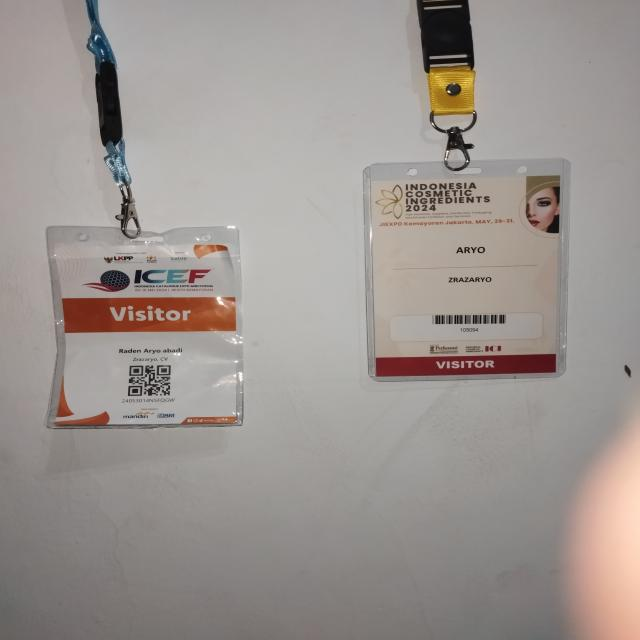ID_card: (362, 158, 569, 382), (43, 225, 244, 430)
